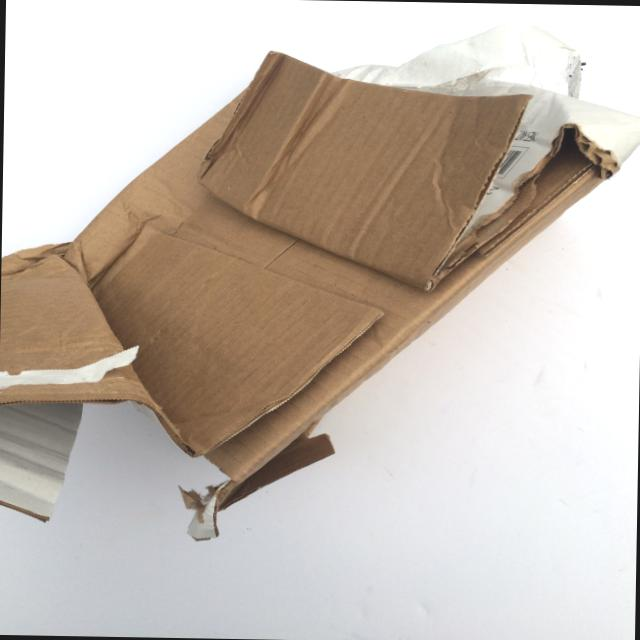Cardboard: (0, 7, 640, 556)
